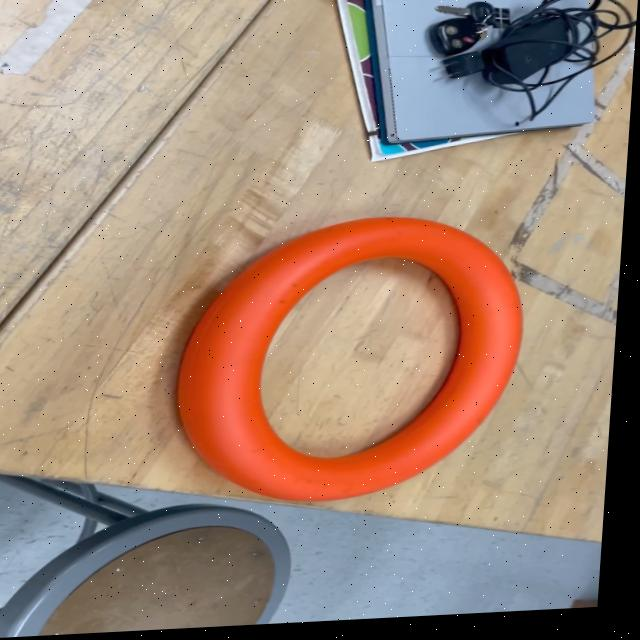note: (177, 215, 538, 511)
